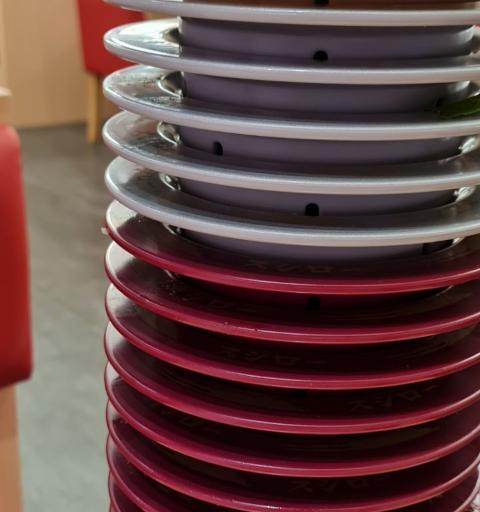Janred: (148, 251, 480, 298), (183, 358, 480, 394), (173, 315, 461, 349), (191, 447, 437, 471), (206, 413, 445, 437), (172, 492, 427, 512)
Janwhite: (128, 42, 480, 93), (129, 0, 480, 43), (131, 101, 480, 144), (149, 195, 480, 237), (137, 149, 480, 188)
